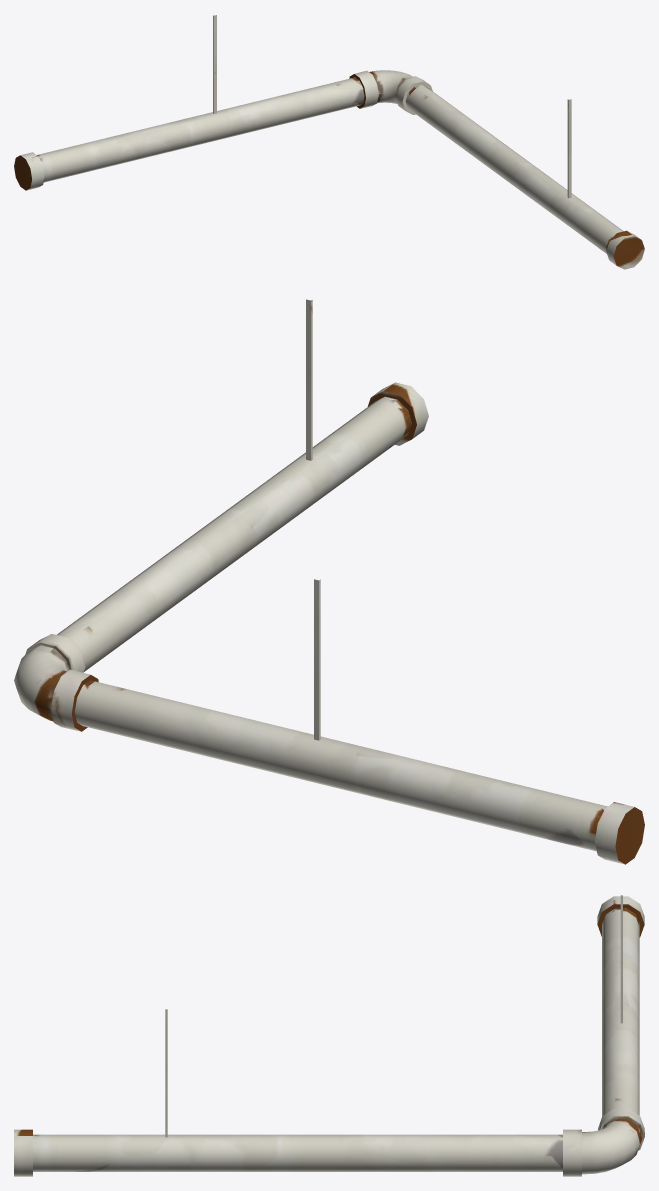
The picture shows the model from 3 angles, top to bottom: view 1: azimuth 30°, elevation 25°; view 2: azimuth 150°, elevation 25°; view 3: azimuth 270°, elevation 25°; orthographic projection. The views are drawn at different scales.
Visible parts, largest first — view 1: body0_model0_lod0_mesh0; view 2: body0_model0_lod0_mesh0; view 3: body0_model0_lod0_mesh0.
Part boxes in pixels (<box>): body0_model0_lod0_mesh0: <box>14,15,644,269</box>; body0_model0_lod0_mesh0: <box>14,299,644,864</box>; body0_model0_lod0_mesh0: <box>14,895,644,1176</box>.
Size of the model in its own units: 61.65 by 19.2 by 66.65.
1 material, 1 textured.
